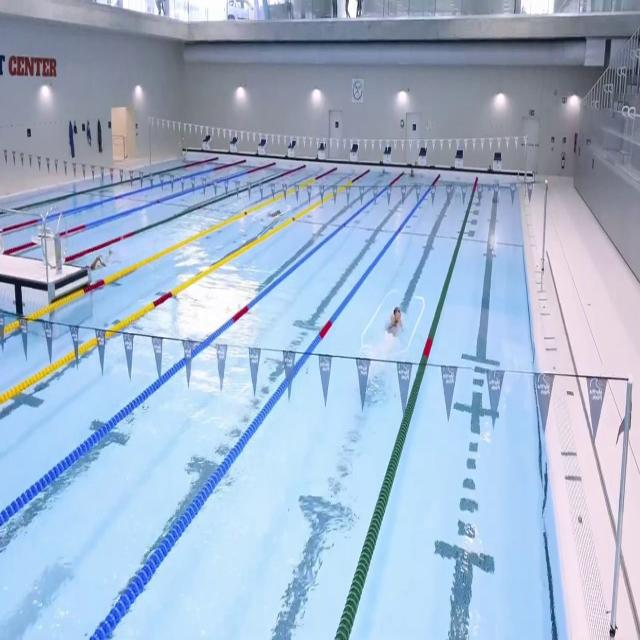Swimming: (85, 249, 122, 271), (386, 306, 405, 338)
